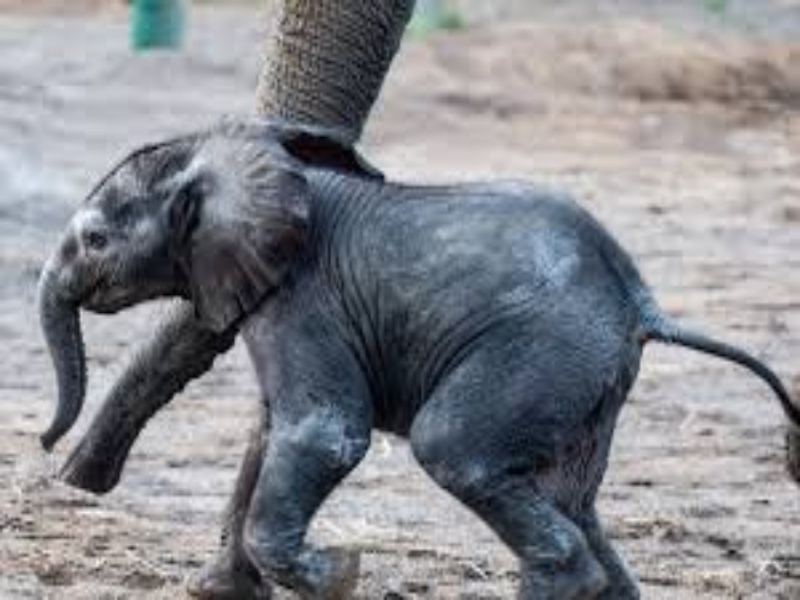elephant: (37, 111, 797, 596)
